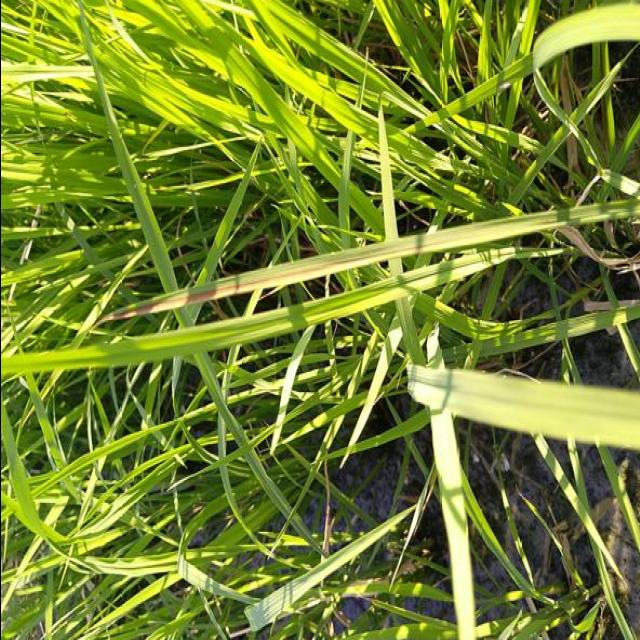Leaf Streak: (101, 249, 372, 319)
